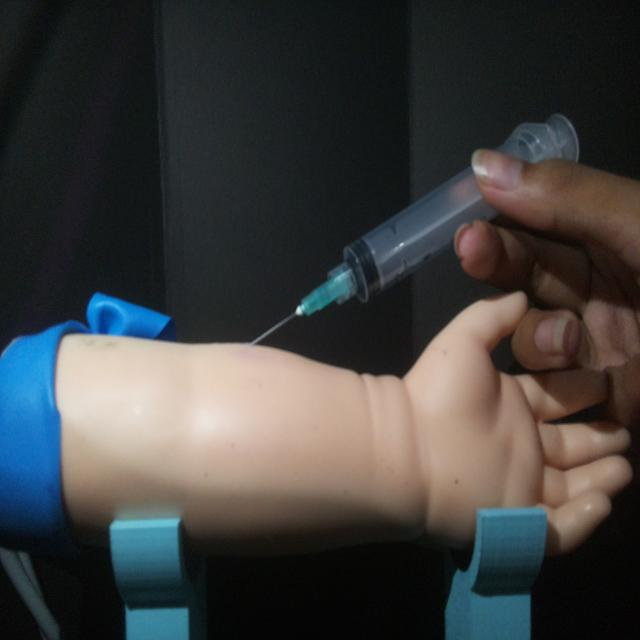28deg: (245, 107, 582, 349)
